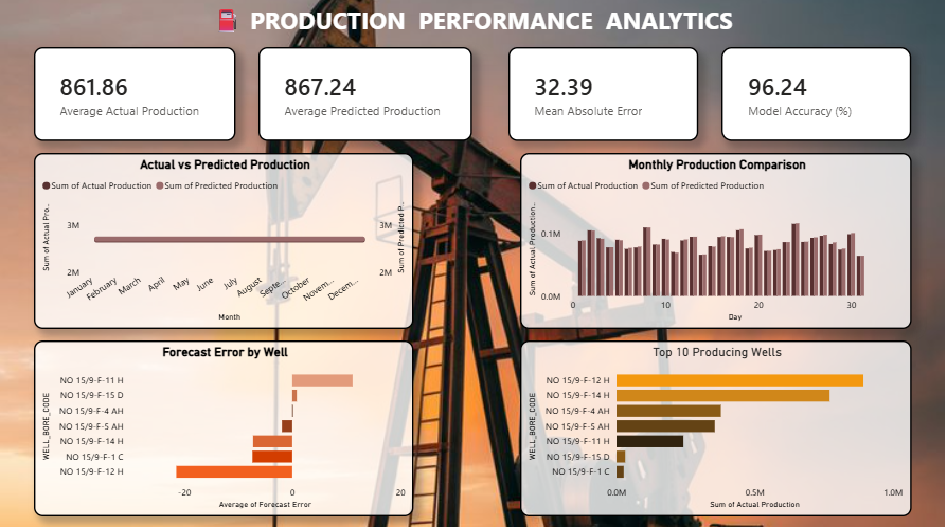

This screenshot's page, from the dashboard's own definition file:
{"tool":"powerbi","page":{"name":"Page 2","canvas":[1280,720],"ordinal":1},"visuals":[{"type":"cardVisual","fields":{"Data":["Volve production data.Average Actual Production"]},"box":[48,64,272,128],"z":0},{"type":"cardVisual","fields":{"Data":["Volve production data.Average Predicted Production"]},"box":[352,64,288,128],"z":1000},{"type":"cardVisual","fields":{"Data":["Volve production data.Mean Absolute Error"]},"box":[688,64,256,128],"z":2000},{"type":"cardVisual","fields":{"Data":["Volve production data.Model Accuracy (%)"]},"box":[976,64,256,128],"z":3000},{"type":"lineChart","title":"Actual vs Predicted Production","fields":{"Category":["Volve production data.DATEPRD.Variation.Date Hierarchy.Month"],"Y":["Sum(production_forecast_results.Actual Production)"],"Y2":["Sum(production_forecast_results.Predicted Production)"]},"box":[48,208,512,240],"z":4000},{"type":"clusteredBarChart","title":"Forecast Error by Well","fields":{"Category":["production_forecast_results.WELL_BORE_CODE"],"Y":["Avg(production_forecast_results.Forecast Error)"]},"box":[48,464,512,240],"z":5000},{"type":"clusteredColumnChart","title":"Monthly Production Comparison","fields":{"Category":["production_forecast_results.DATEPRD.Variation.Date Hierarchy.Day"],"Y":["Sum(production_forecast_results.Actual Production)","Sum(production_forecast_results.Predicted Production)"]},"box":[704,208,528,240],"z":6000},{"type":"clusteredBarChart","title":"Top 10 Producing Wells","fields":{"Category":["production_forecast_results.WELL_BORE_CODE"],"Y":["Sum(production_forecast_results.Actual Production)"]},"box":[704,464,528,240],"z":7000},{"type":"textbox","box":[32,0,1216,64],"z":8000}]}

Visuals, with their boxes in screenshot pixels (x1, y1, x2, y2), scaled from the page's 1280x720 canvas onto the 945x527 screenshot:
cardVisual - Volve production data.Average Actual Production: select_region(35, 47, 236, 141)
cardVisual - Volve production data.Average Predicted Production: select_region(260, 47, 472, 141)
cardVisual - Volve production data.Mean Absolute Error: select_region(508, 47, 697, 141)
cardVisual - Volve production data.Model Accuracy (%): select_region(721, 47, 910, 141)
"Actual vs Predicted Production" lineChart: select_region(35, 152, 413, 328)
"Forecast Error by Well" clusteredBarChart: select_region(35, 340, 413, 515)
"Monthly Production Comparison" clusteredColumnChart: select_region(520, 152, 910, 328)
"Top 10 Producing Wells" clusteredBarChart: select_region(520, 340, 910, 515)
textbox: select_region(24, 0, 921, 47)
